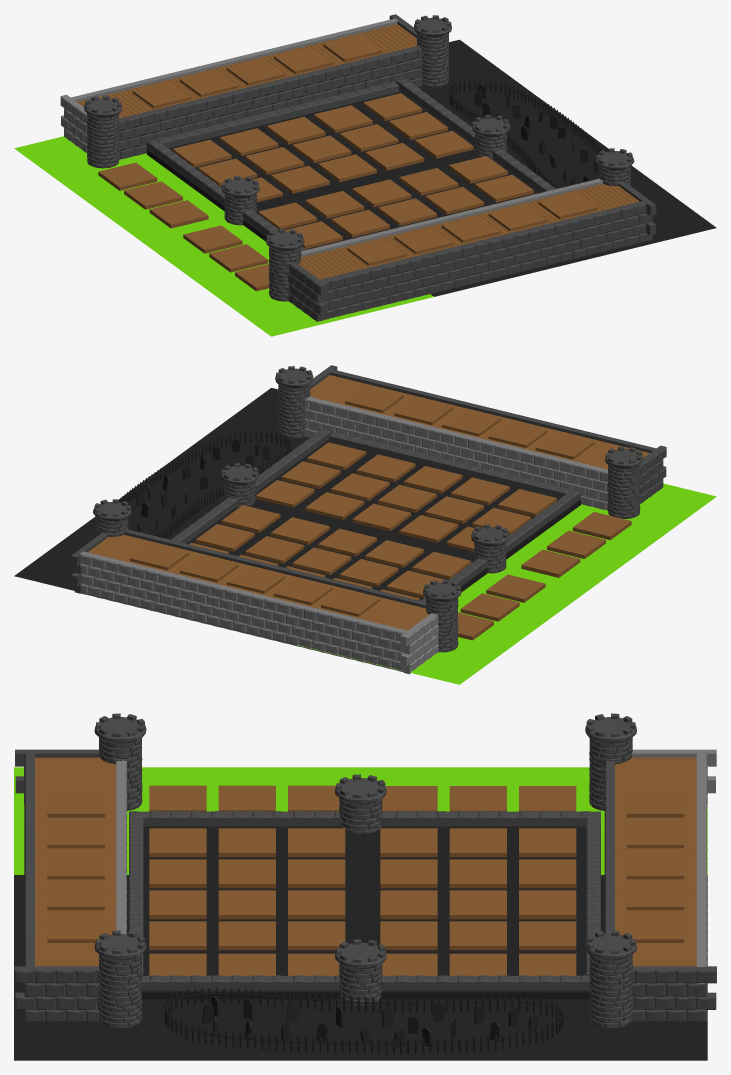
Rendered from Board_V2.fbx.
3 views of the same model, one above another, from view 1: azimuth 30°, elevation 25°; view 2: azimuth 150°, elevation 25°; view 3: azimuth 270°, elevation 25° (orthographic). The views are drawn at different scales.
Visible parts, largest first — view 1: Plane, Cube, Cube.179, Cube.191, Cube.038, Cube.051, Cube.180, Cube.181, Cube.037, Cube.182, Cube.004, Cube.036 (+54 smaller); view 2: Plane, Cube, Cube.039, Cube.051, Cube.178, Cube.191, Cube.042, Cube.040, Cube.041, Cube.177, Cube.003, Cube.176 (+54 smaller); view 3: Plane, Cube, Cube.051, Cube.191, Cube.001, Cube.002, Cylinder.001, Cube.055, Cube.195, Cube.062, Cube.061, Cube.039 (+65 smaller).
Part boxes in pixels (x1,y1,x2,y2): Plane: [14, 39, 716, 336]; Cube: [146, 89, 540, 249]; Cube.179: [314, 200, 646, 290]; Cube.191: [298, 184, 639, 279]; Cube.038: [102, 45, 422, 131]; Cube.051: [77, 24, 416, 118]; Cube.180: [323, 213, 647, 301]; Cube.181: [313, 223, 646, 312]; Cube.037: [119, 58, 422, 141]; Cube.182: [323, 233, 647, 319]; Cube.004: [156, 81, 398, 148]; Cube.036: [102, 68, 422, 151]; Plane: [14, 388, 716, 684]; Cube: [186, 439, 580, 600]; Cube.039: [80, 551, 409, 641]; Cube.051: [87, 534, 429, 630]; Cube.178: [304, 396, 624, 482]; Cube.191: [310, 375, 649, 469]; Cube.042: [80, 583, 403, 672]; Cube.040: [80, 564, 403, 652]; Cube.041: [81, 574, 413, 663]; Cube.177: [304, 409, 608, 492]; Cube.003: [329, 432, 570, 498]; Cube.176: [304, 418, 624, 501]; Plane: [14, 767, 707, 1060]; Cube: [142, 826, 600, 999]; Cube.051: [615, 757, 696, 974]; Cube.191: [35, 757, 116, 975]; Cube.001: [129, 811, 600, 826]; Cube.002: [142, 975, 589, 990]; Cylinder.001: [164, 987, 564, 1053]; Cube.055: [585, 930, 636, 996]; Cube.195: [94, 930, 146, 996]; Cube.062: [335, 939, 386, 1005]; Cube.061: [335, 774, 386, 833]; Cube.039: [696, 750, 707, 966].
Size of the model in its own units: 1892 by 244 by 1917.
Materials: 2 (1 with a texture image).
